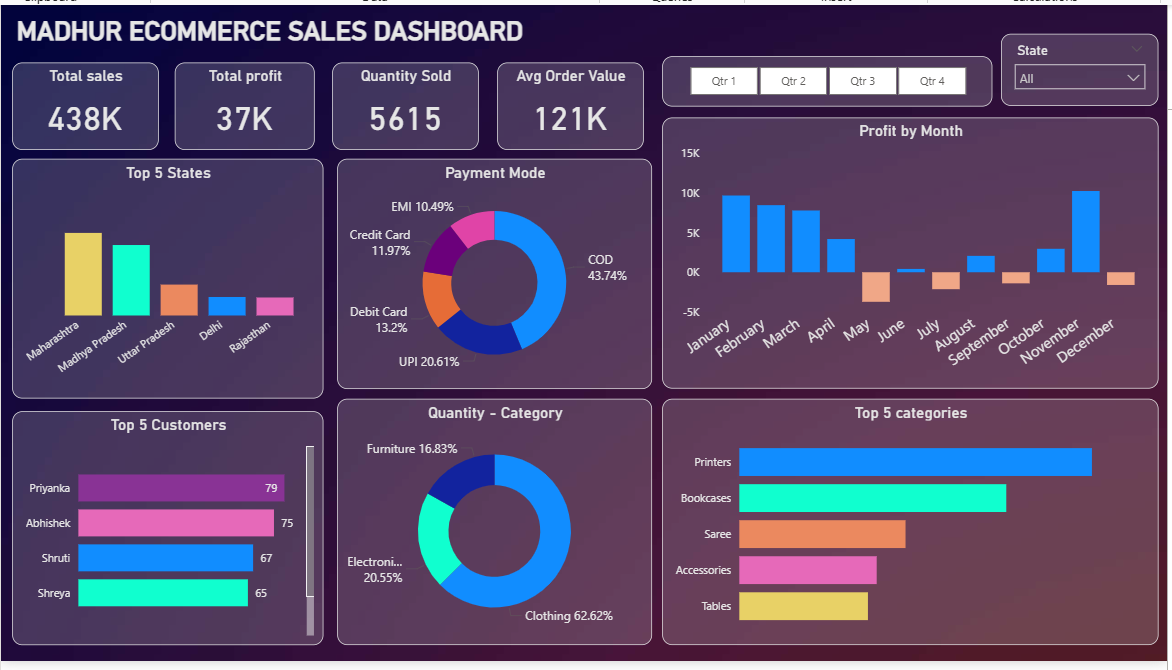

The page's visual inventory and layout, read from the dashboard file:
{"tool":"powerbi","page":{"name":"Madhur Ecommerce sales","canvas":[1280,720],"ordinal":0},"visuals":[{"type":"textbox","box":[12.3,6.9,579.1,49.4],"z":0},{"type":"columnChart","title":"Profit by Month","fields":{"Category":["Orders.Order Date.Variation.Date Hierarchy.Month"],"Y":["Details.Profit"]},"box":[725.9,123.5,544.8,297.8],"z":1000},{"type":"barChart","title":"Top 5 categories","fields":{"Category":["Details.Sub-Category"],"Y":["Details.Profit"]},"box":[725.9,432.2,544.8,270.3],"z":2000},{"type":"donutChart","title":"Quantity - Category","fields":{"Category":["Details.Category"],"Y":["Details.Quantity"]},"box":[369.1,432.2,345.8,270.3],"z":3000},{"type":"donutChart","title":"Payment Mode","fields":{"Y":["Details.Quantity"],"Category":["Details.PaymentMode"]},"box":[369.1,168.8,345.8,252.5],"z":4000},{"type":"card","title":"Total sales","fields":{"Values":["Details.Amount"]},"box":[12.3,63.1,160.5,96.1],"z":5000},{"type":"card","title":"Quantity Sold","fields":{"Values":["Details.Quantity"]},"box":[363.6,63.1,160.5,96.1],"z":6000},{"type":"card","title":"Total profit","fields":{"Values":["Details.Profit"]},"box":[190.7,63.1,153.7,96.1],"z":7000},{"type":"card","title":"Avg Order Value","fields":{"Values":["Details.AOV"]},"box":[544.8,63.1,160.5,96.1],"z":8000},{"type":"columnChart","title":"Top 5 States","fields":{"Category":["Orders.State"],"Y":["Details.Amount"]},"box":[12.3,168.8,341.7,263.5],"z":9000},{"type":"barChart","title":"Top 5 Customers","fields":{"Y":["Details.Quantity"],"Category":["Orders.CustomerName"]},"box":[12.3,446,341.7,256.6],"z":10000},{"type":"slicer","title":"Quarter wise","fields":{"Values":["Orders.Order Date.Variation.Date Hierarchy.Quarter"]},"box":[725.9,56.3,362.3,54.9],"z":10001},{"type":"slicer","title":"States","fields":{"Values":["Orders.State"]},"box":[1097.8,31.6,172.9,79.6],"z":10002}]}

Visuals, with their boxes in screenshot pixels (x1, y1, x2, y2), scaled from the page's 1280x720 canvas onto the 1172x670 screenshot:
textbox: {"x1": 11, "y1": 6, "x2": 542, "y2": 52}
"Profit by Month" columnChart: {"x1": 665, "y1": 115, "x2": 1163, "y2": 392}
"Top 5 categories" barChart: {"x1": 665, "y1": 402, "x2": 1163, "y2": 654}
"Quantity - Category" donutChart: {"x1": 338, "y1": 402, "x2": 655, "y2": 654}
"Payment Mode" donutChart: {"x1": 338, "y1": 157, "x2": 655, "y2": 392}
"Total sales" card: {"x1": 11, "y1": 59, "x2": 158, "y2": 148}
"Quantity Sold" card: {"x1": 333, "y1": 59, "x2": 480, "y2": 148}
"Total profit" card: {"x1": 175, "y1": 59, "x2": 315, "y2": 148}
"Avg Order Value" card: {"x1": 499, "y1": 59, "x2": 646, "y2": 148}
"Top 5 States" columnChart: {"x1": 11, "y1": 157, "x2": 324, "y2": 402}
"Top 5 Customers" barChart: {"x1": 11, "y1": 415, "x2": 324, "y2": 654}
"Quarter wise" slicer: {"x1": 665, "y1": 52, "x2": 996, "y2": 103}
"States" slicer: {"x1": 1005, "y1": 29, "x2": 1163, "y2": 103}
